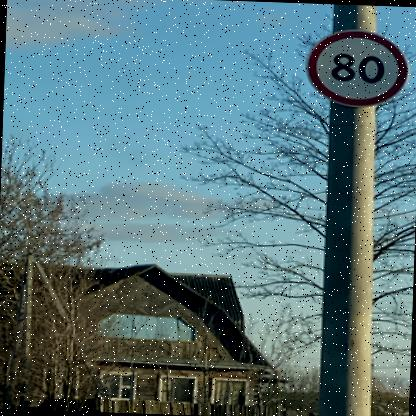speedlimit: (302, 26, 408, 106)
